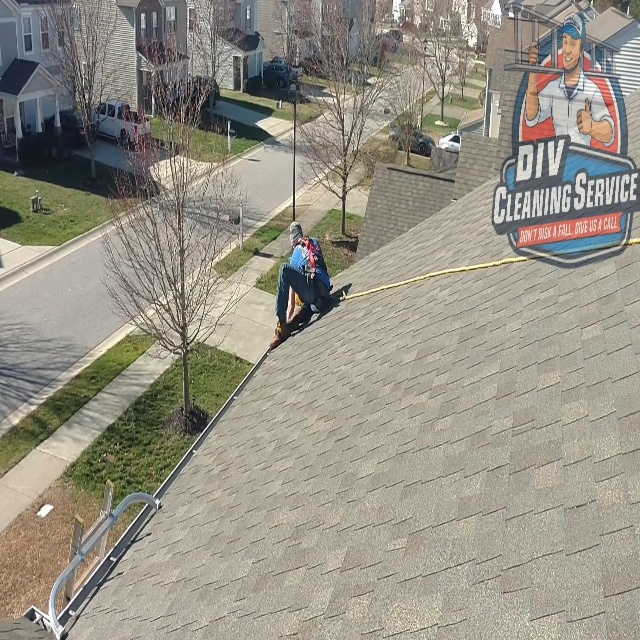Arnes_seguridad: (296, 231, 331, 317)
